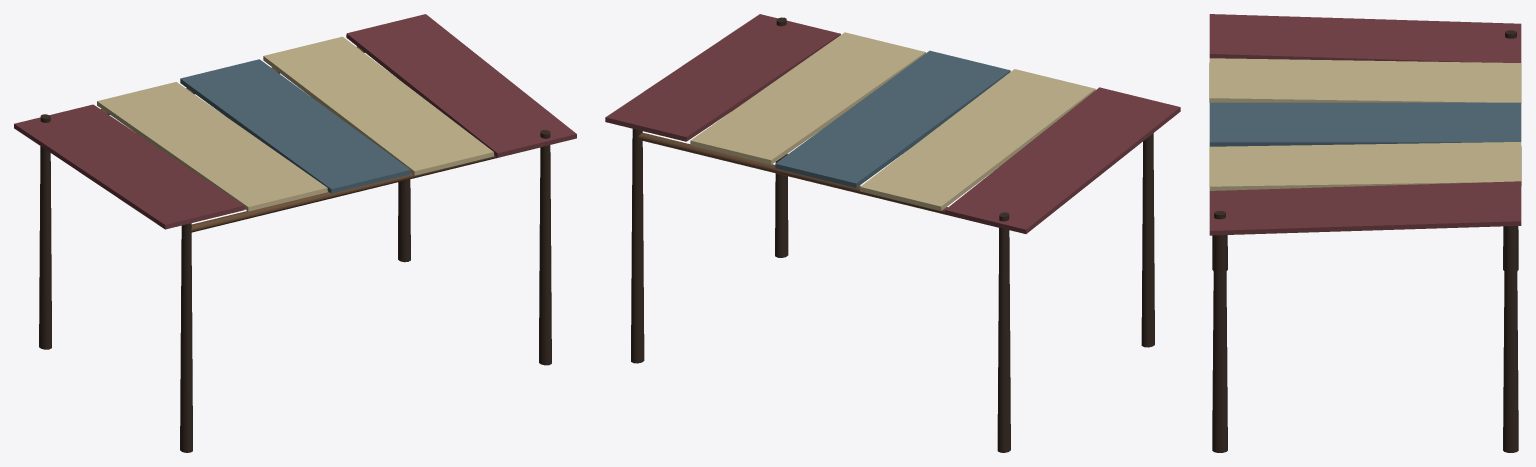
File: market_awning.glb
3 renders of one model, left to right at view 1: azimuth 30°, elevation 25°; view 2: azimuth 150°, elevation 25°; view 3: azimuth 270°, elevation 25°, orthographic. The views are drawn at different scales.
Visible parts, largest first — view 1: market_awning; view 2: market_awning; view 3: market_awning.
Boxes of the visible parts, left/top/right/bottom form: market_awning: left=14, top=14, right=576, bottom=452; market_awning: left=605, top=14, right=1180, bottom=452; market_awning: left=1209, top=14, right=1521, bottom=452.
Bounding box in the file's own units: 4.4 × 2.4 × 2.8.
1 material, 1 textured.
